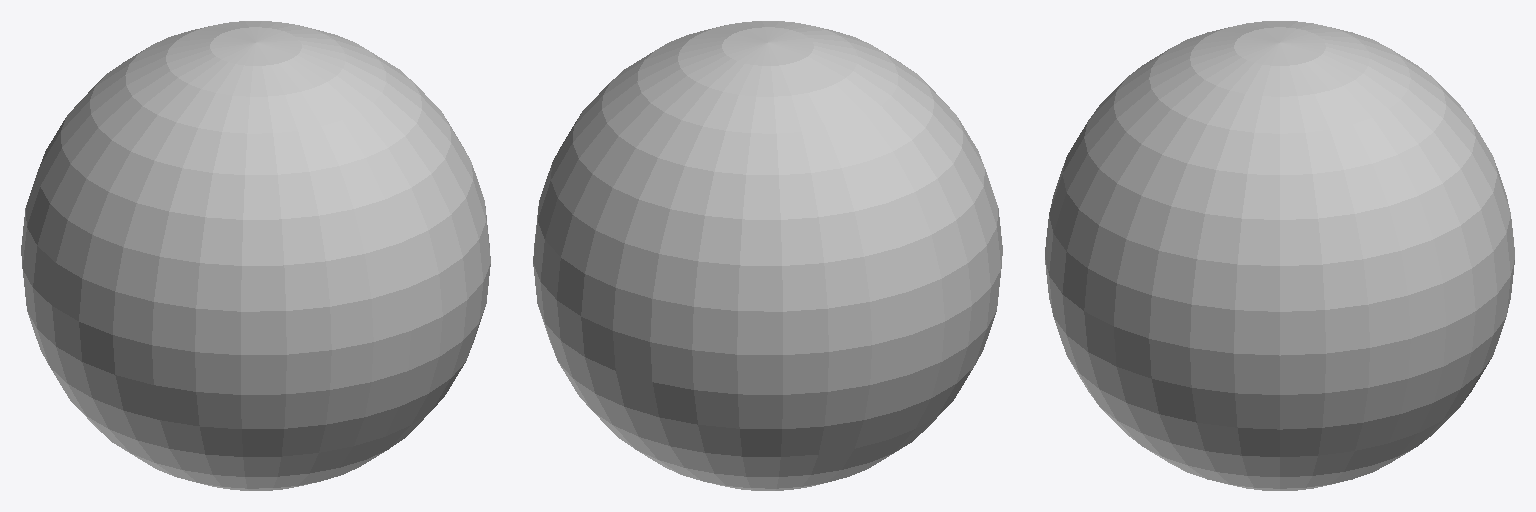
Rendered from projectile.obj.
3 renders of one model, left to right at view 1: azimuth 30°, elevation 25°; view 2: azimuth 150°, elevation 25°; view 3: azimuth 270°, elevation 25°, orthographic.
Visible parts, largest first — view 1: Sphere; view 2: Sphere; view 3: Sphere.
Part boxes in pixels (left/top/right/bottom): Sphere: left=21, top=21, right=490, bottom=490; Sphere: left=533, top=21, right=1002, bottom=490; Sphere: left=1045, top=21, right=1514, bottom=490.
Bounding box in the file's own units: 0.8 × 0.8 × 0.8.